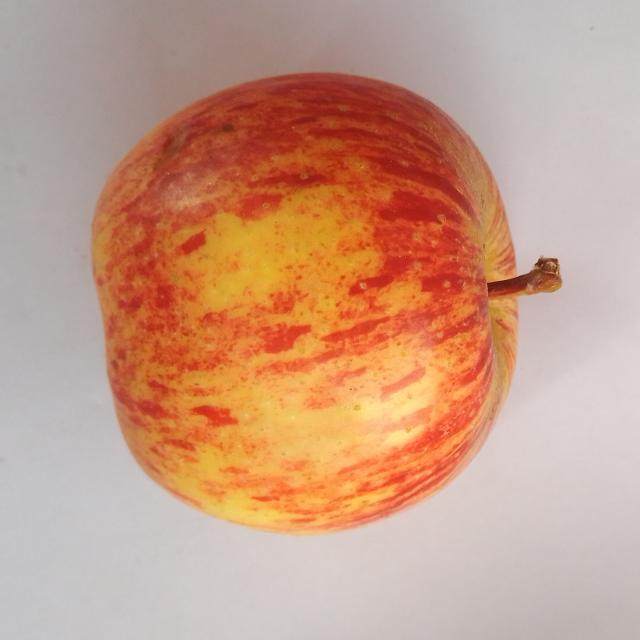apple: (93, 74, 559, 533)
